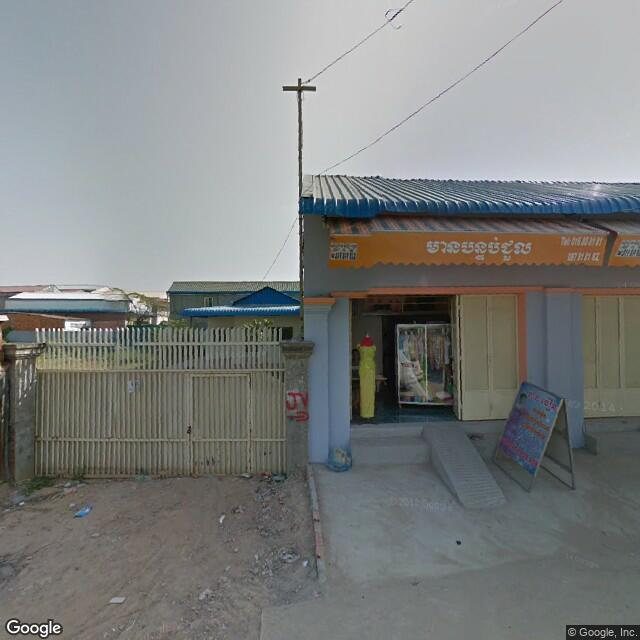litter: (106, 585, 131, 615), (193, 575, 215, 607), (70, 497, 97, 523), (209, 511, 231, 528), (293, 552, 313, 569), (13, 500, 28, 508)
